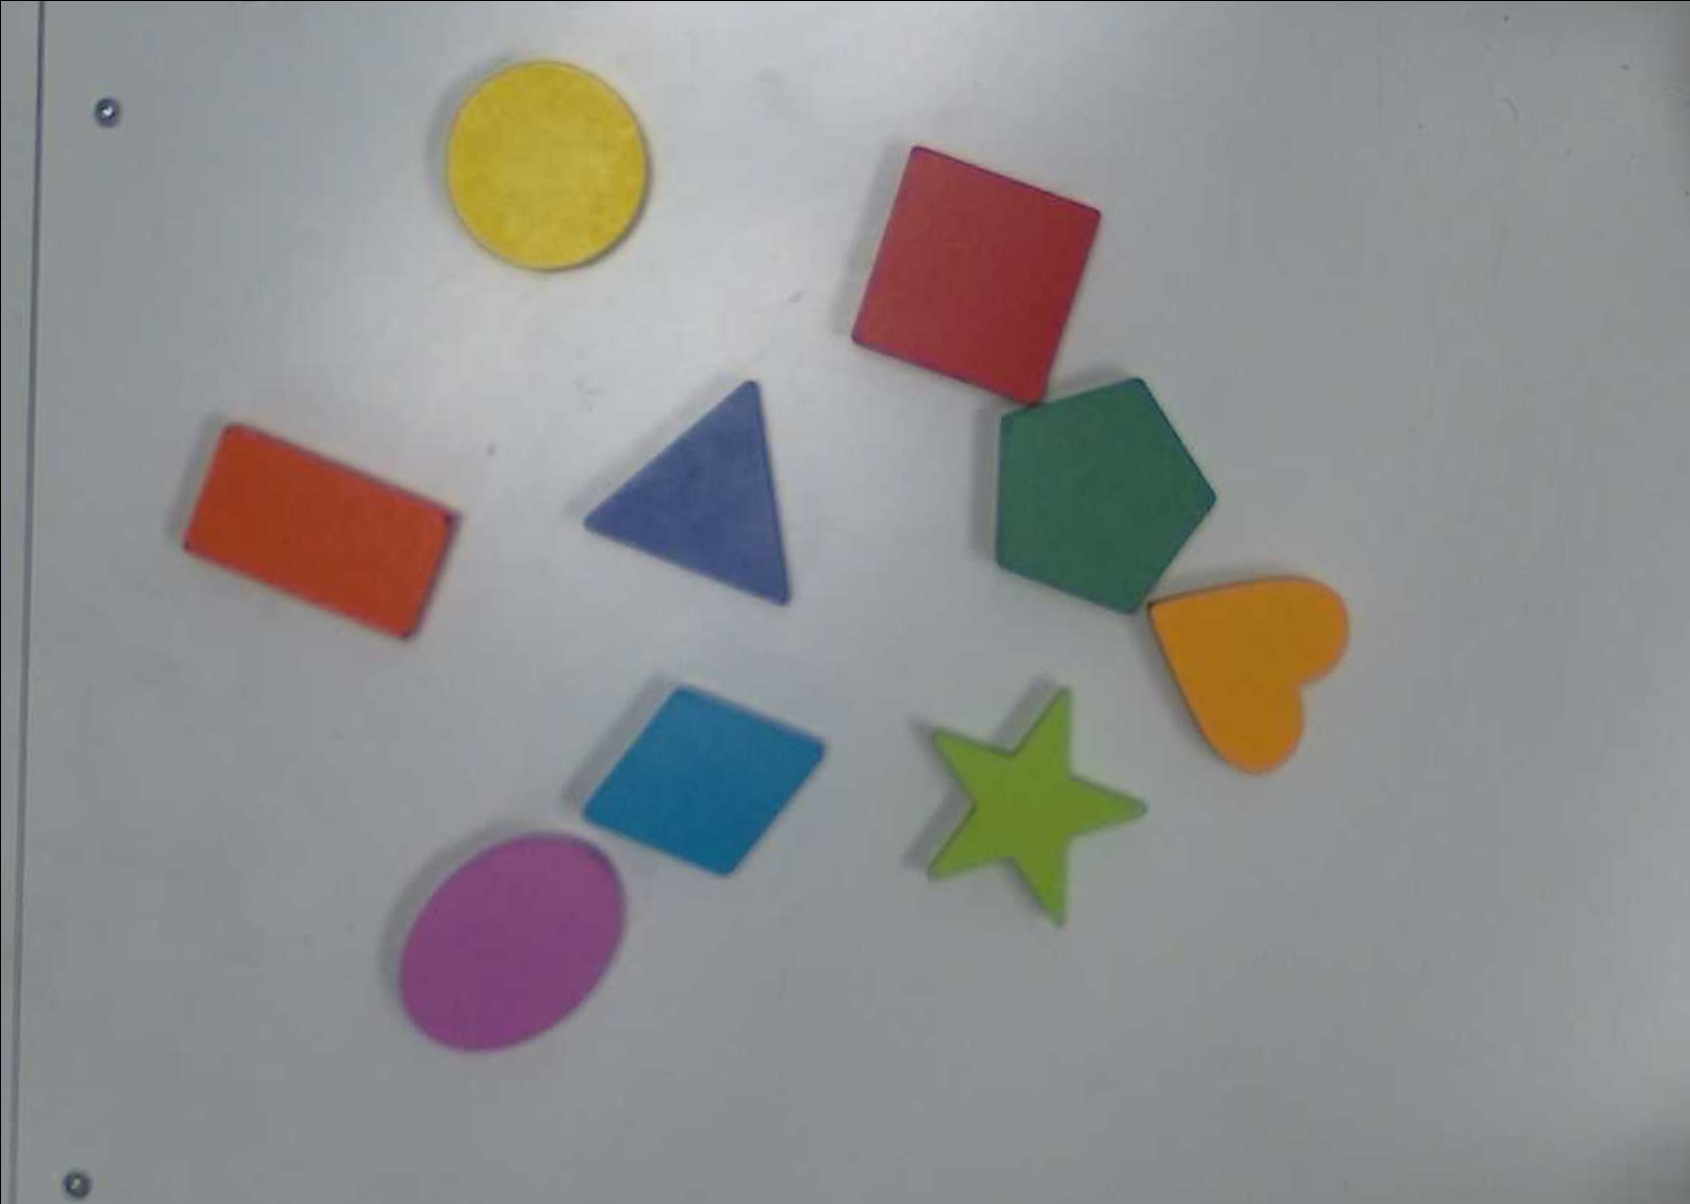Circle: (440, 60, 657, 278)
Ellipse: (392, 827, 627, 1054)
Heart: (1143, 569, 1362, 774)
Parallelogram: (577, 672, 833, 874)
Pentagon: (981, 370, 1229, 616)
Rectangle: (177, 420, 461, 642)
Square: (838, 142, 1115, 409)
Star: (913, 685, 1166, 930)
Triangle: (580, 371, 799, 609)
